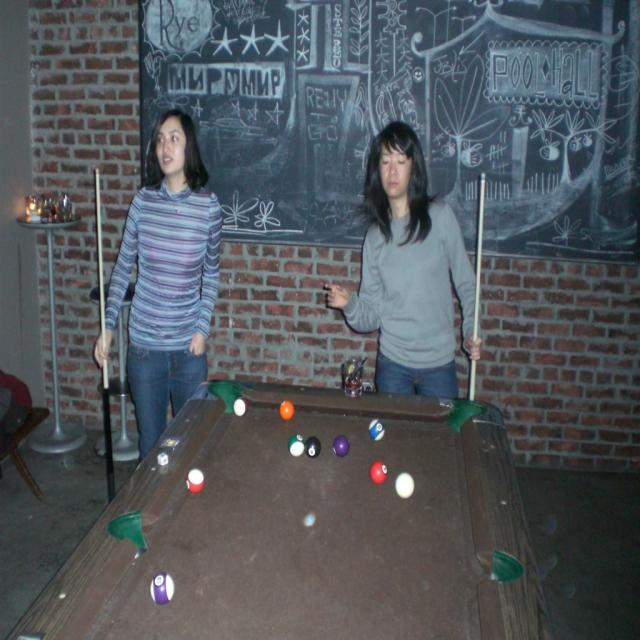Ball: (151, 572, 176, 608), (396, 470, 413, 501), (184, 469, 204, 495), (370, 457, 388, 485), (280, 400, 296, 426), (306, 434, 321, 460), (368, 419, 386, 440), (335, 434, 349, 459), (290, 433, 303, 459), (235, 396, 248, 416)
Billiard table: (3, 379, 558, 639)
